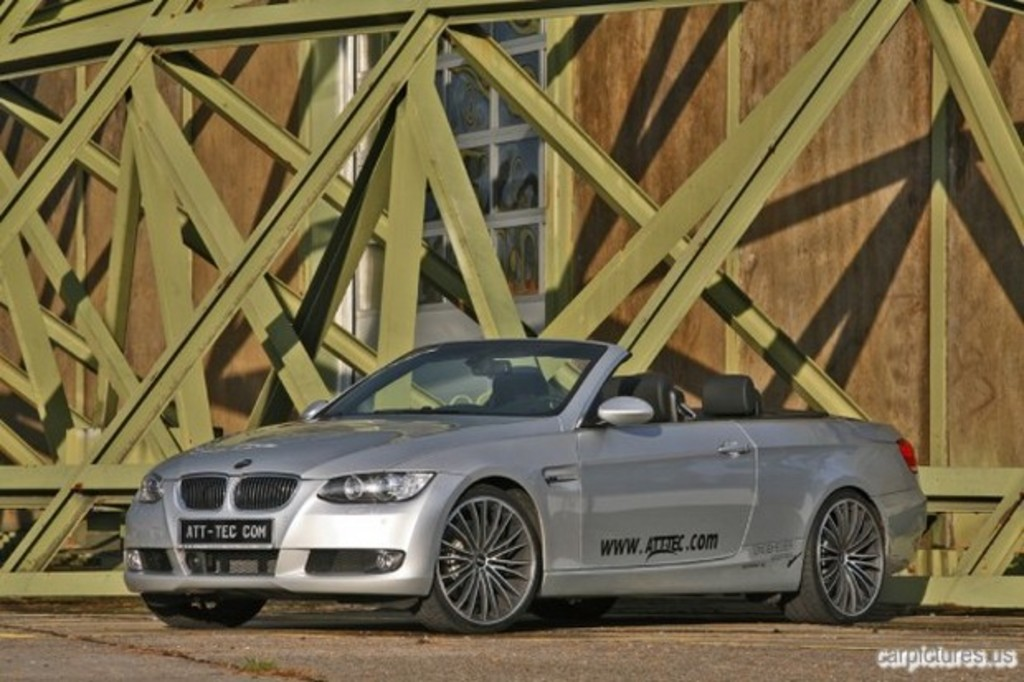Car: (122, 338, 927, 634)
